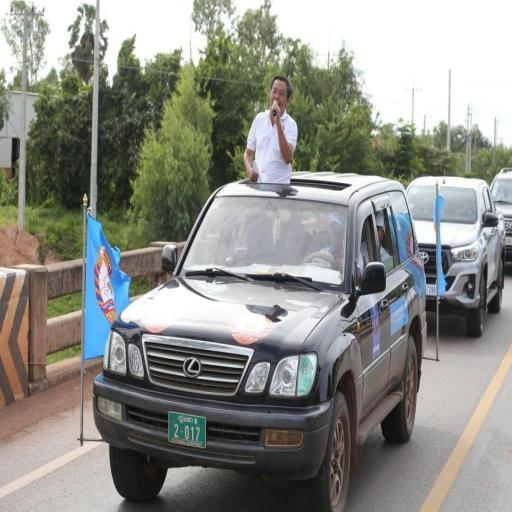Plate Number: (168, 410, 208, 448)
